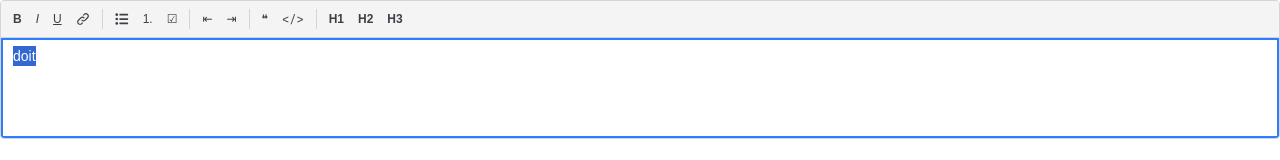
Test: links › forgets a selection that has gone stale
Click the button titled "Link (⌘K)" at point(83, 19), box [70,6,96,32]
Wait 31000 ms
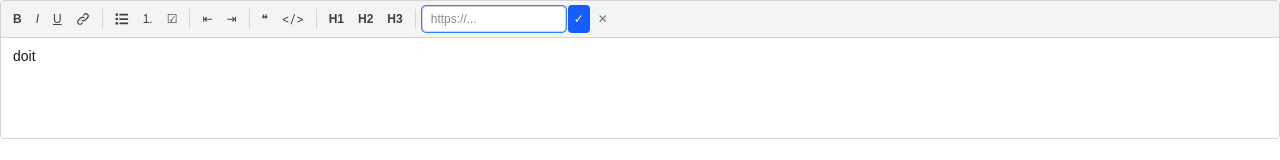
Type "https://example.com" into the field with placeholder "https://..." at point(494, 19), box [422,6,566,32]
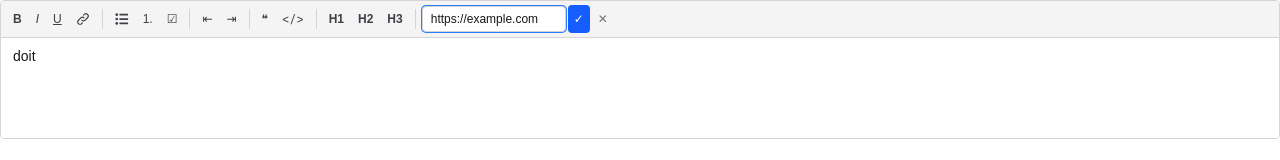
Press Enter in the field with placeholder "https://...", box [422,6,566,32]
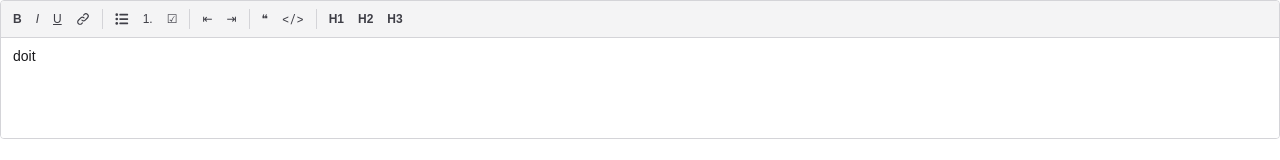
expect the field with placeholder "https://..." is gone: met
